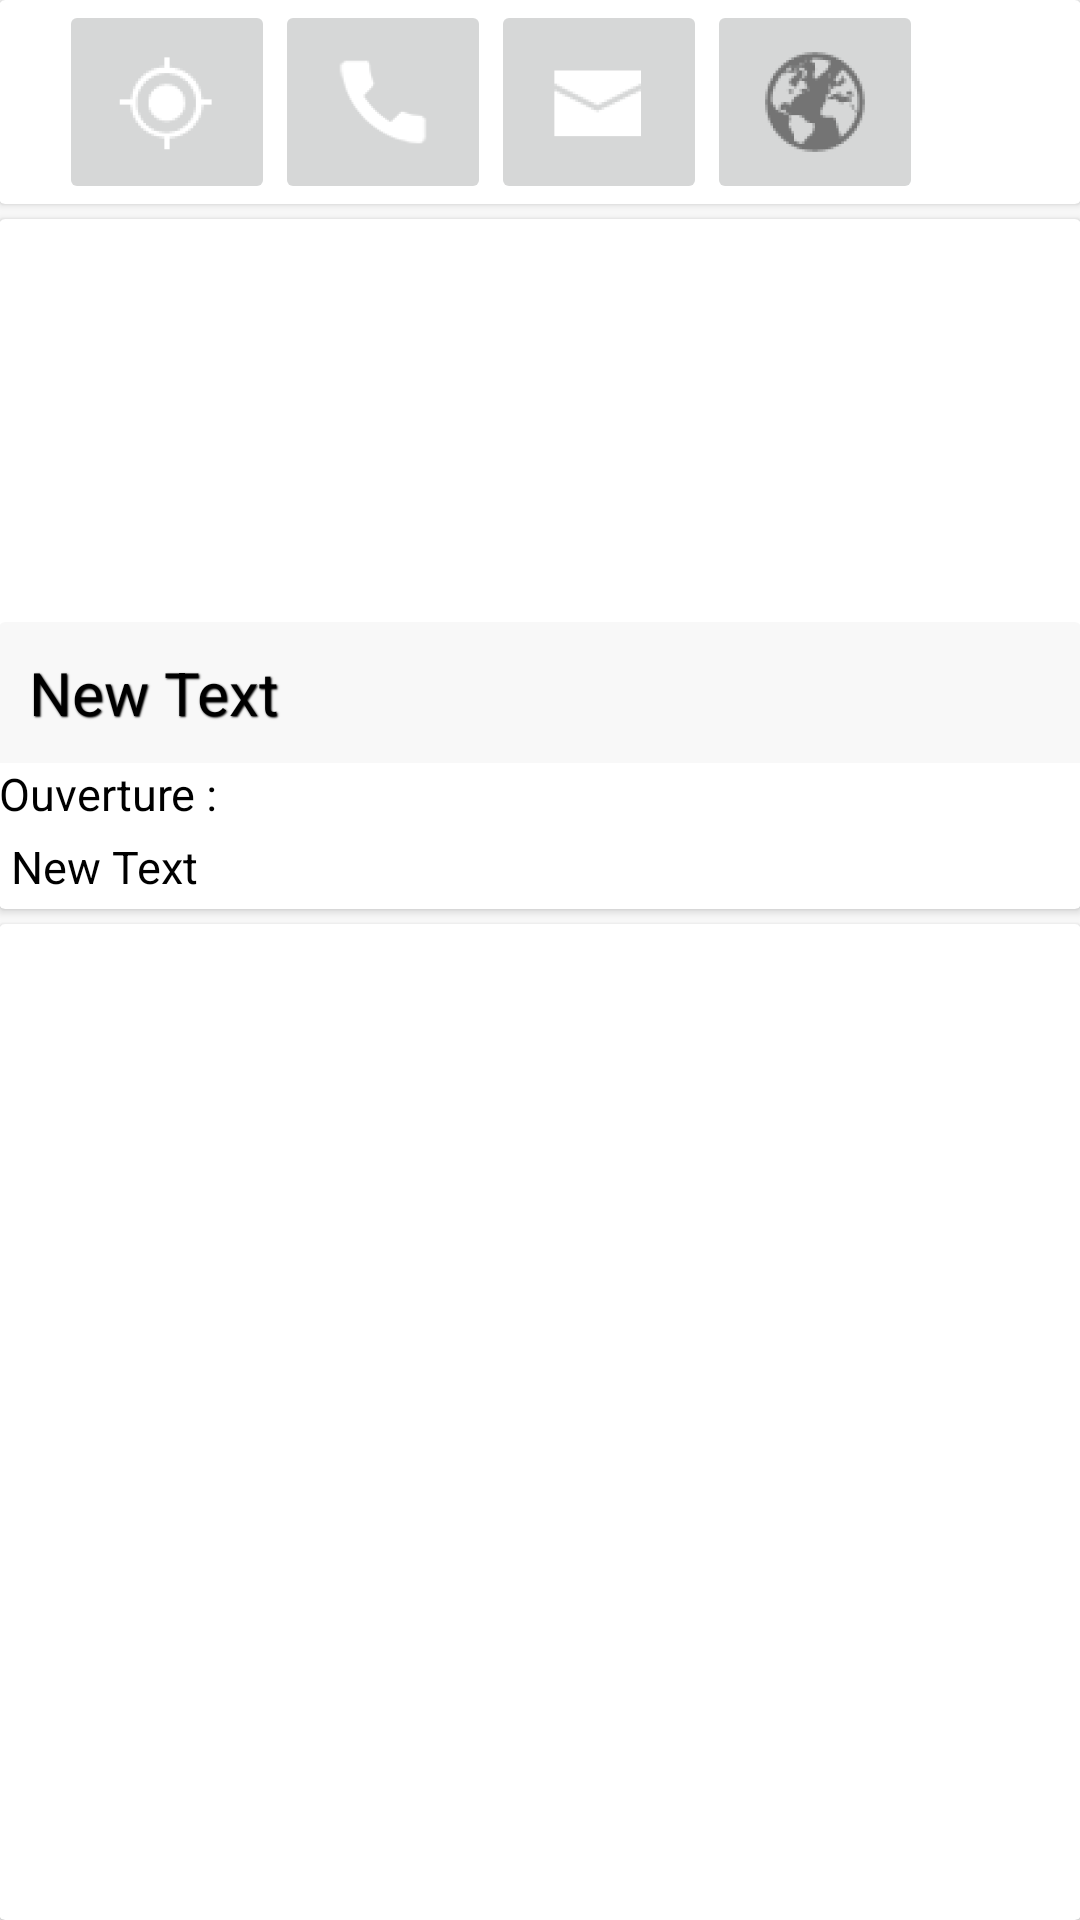

Icon bounding boxes for this 1080px×1920px phone screenshot, format [x1=x1, y1=y1, x2=x2, y2=y2]:
call: [x1=287, y1=18, x2=479, y2=186]
mail: [x1=503, y1=18, x2=695, y2=186]
map: [x1=71, y1=18, x2=263, y2=186]
web: [x1=719, y1=18, x2=911, y2=186]
